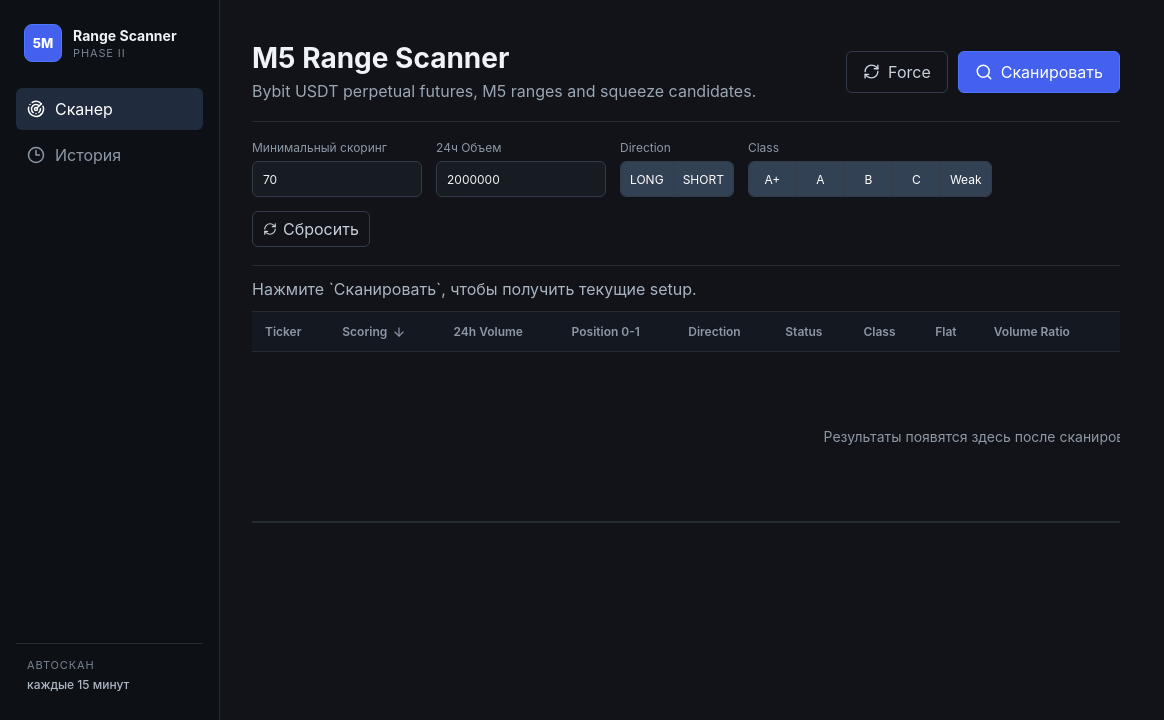
Test case: App › shows loading and error states
What coordinates should you click on to do the following:
click the button "Сканировать"
I would click on:
 (1039, 72)
Its box is [958,51,1120,93].
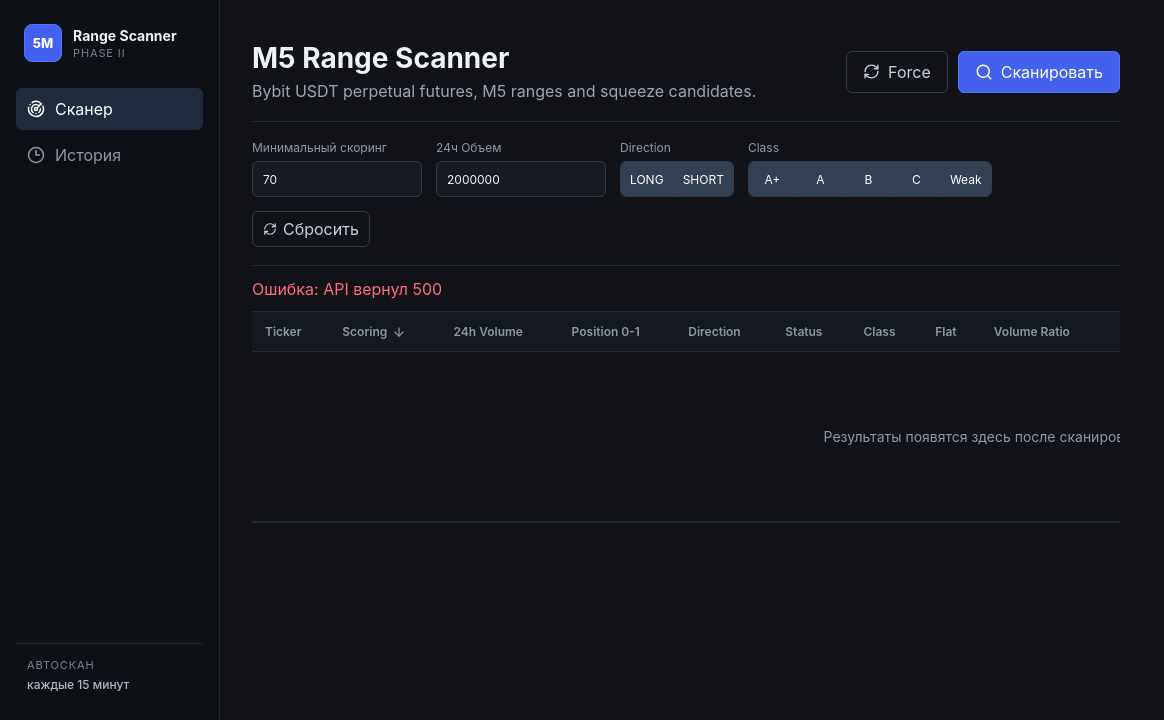
Expected: the text "Ошибка: API вернул 500" is shown, [252,279,442,299]
